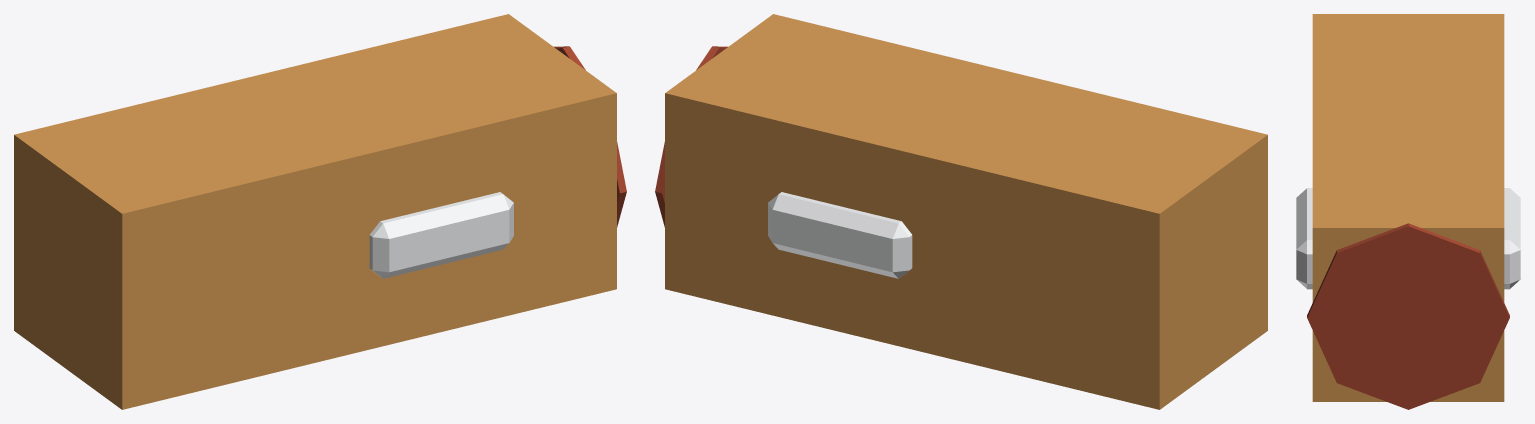
Rendered from Burrito.fbx.
3 renders of one model, left to right at view 1: azimuth 30°, elevation 25°; view 2: azimuth 150°, elevation 25°; view 3: azimuth 270°, elevation 25°, orthographic. The views are drawn at different scales.
Parts seen in each view (by area): view 1: Burrito; view 2: Burrito; view 3: Burrito.
Part boxes in pixels (x1,y1,x2,y2): Burrito: [14, 14, 626, 409]; Burrito: [655, 14, 1267, 409]; Burrito: [1296, 14, 1520, 409].
Size of the model in its own units: 1.42 by 0.56 by 0.62.
1 material, 1 textured.
